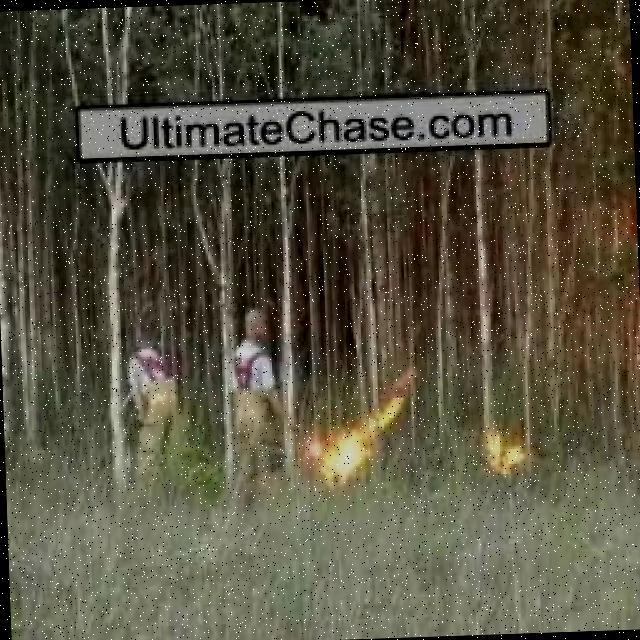Fire: (307, 400, 411, 483), (484, 432, 530, 485)
